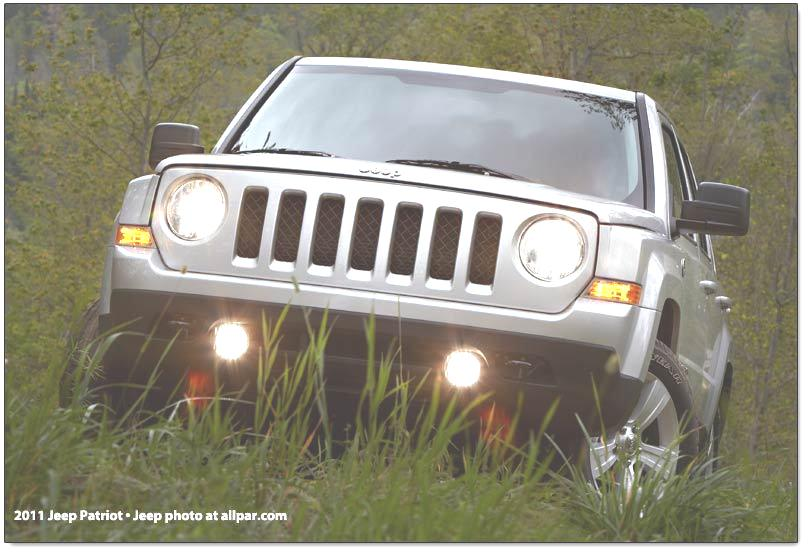jeep: (340, 154, 410, 189)
